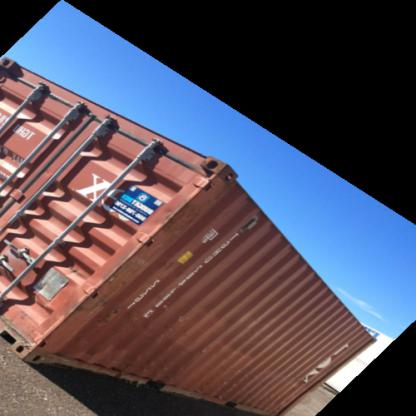Damage: (95, 256, 161, 292), (158, 208, 214, 232), (200, 177, 230, 208), (144, 366, 172, 394), (173, 306, 199, 332), (97, 302, 119, 324)
